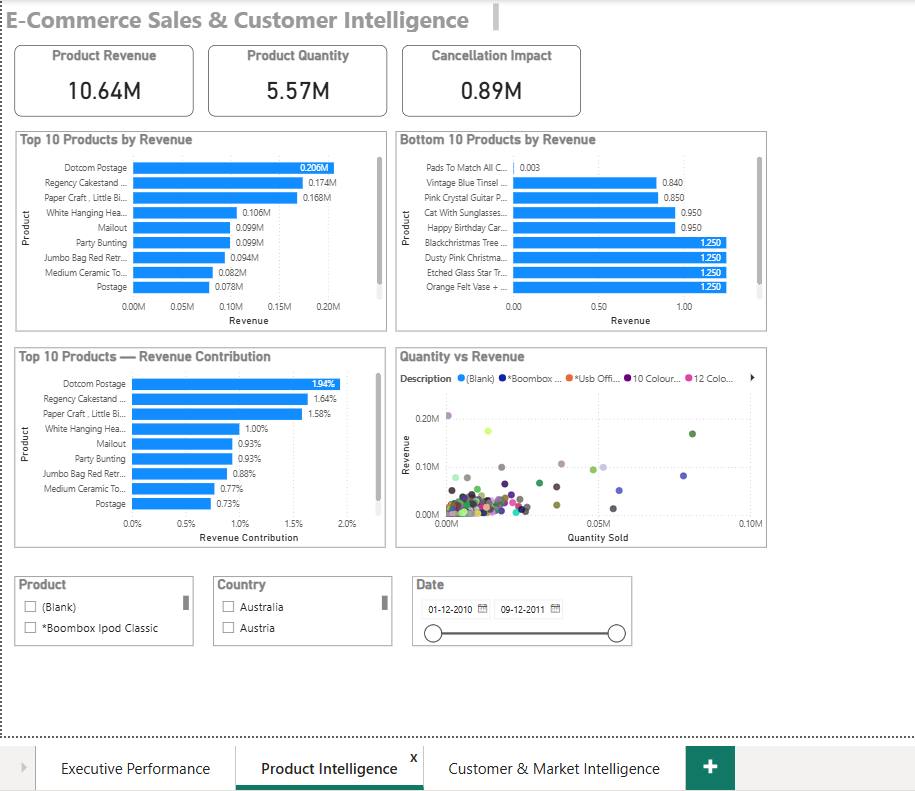

Layout of this report page (visuals, bound fields, positions):
{"tool":"powerbi","page":{"name":"Product Intelligence","canvas":[1280,1030],"ordinal":1},"visuals":[{"type":"textbox","box":[10,0,280,280],"z":0},{"type":"textbox","box":[10,290,280,280],"z":1000},{"type":"textbox","box":[9.6,0,279.9,308.7],"z":2000},{"type":"textbox","box":[0,0,700,50],"z":3000},{"type":"card","title":"Product Revenue","fields":{"Values":["FactSales.Total Valid Revenue"]},"box":[17.5,63,250,100],"z":4000},{"type":"card","title":"Product Quantity","fields":{"Values":["FactSales.Product Quantity"]},"box":[288.6,63,250.2,99.7],"z":5000},{"type":"clusteredBarChart","title":"Top 10 Products by Revenue","fields":{"Category":["DimProduct_new.Description"],"Y":["FactSales.Product Revenue"]},"box":[19.2,183.7,519.6,279.9],"z":6000},{"type":"clusteredBarChart","title":"Bottom 10 Products by Revenue","fields":{"Category":["DimProduct_new.Description"],"Y":["FactSales.Product Revenue"]},"box":[551,183.7,519.6,279.9],"z":7000},{"type":"clusteredBarChart","title":"Top 10 Products — Revenue Contribution","fields":{"Category":["DimProduct_new.Description"],"Y":["FactSales.Product Revenue %"]},"box":[17.5,486.3,519.6,279.9],"z":8000},{"type":"scatterChart","title":"Quantity vs Revenue","fields":{"X":["FactSales.Product Quantity"],"Y":["FactSales.Product Revenue"],"Series":["DimProduct_new.Description"]},"box":[551,486.3,519.6,279.9],"z":9000},{"type":"card","title":"Cancellation Impact","fields":{"Values":["FactSales.Cancellation Impact"]},"box":[559.8,63,250.2,99.7],"z":10000},{"type":"slicer","title":"Product","fields":{"Values":["DimProduct_new.Description"]},"box":[17.5,806.4,250.2,98],"z":11000},{"type":"slicer","title":"Country","fields":{"Values":["DimCountry.Country"]},"box":[295.6,806.4,250.2,98],"z":12000},{"type":"slicer","title":"Date","fields":{"Values":["DimDate.Date"]},"box":[573.8,806.4,307.9,98],"z":13000}]}

Visuals, with their boxes on the page's 1280x1030 design canvas (x1, y1, x2, y2). These are canvas units, not pixel positions in the 915x791 screenshot, which may show the page scaled, cropped or inside an application window:
textbox: 10 0 290 280
textbox: 10 290 290 570
textbox: 10 0 290 309
textbox: 0 0 700 50
"Product Revenue" card: 18 63 268 163
"Product Quantity" card: 289 63 539 163
"Top 10 Products by Revenue" clusteredBarChart: 19 184 539 464
"Bottom 10 Products by Revenue" clusteredBarChart: 551 184 1071 464
"Top 10 Products — Revenue Contribution" clusteredBarChart: 18 486 537 766
"Quantity vs Revenue" scatterChart: 551 486 1071 766
"Cancellation Impact" card: 560 63 810 163
"Product" slicer: 18 806 268 904
"Country" slicer: 296 806 546 904
"Date" slicer: 574 806 882 904
